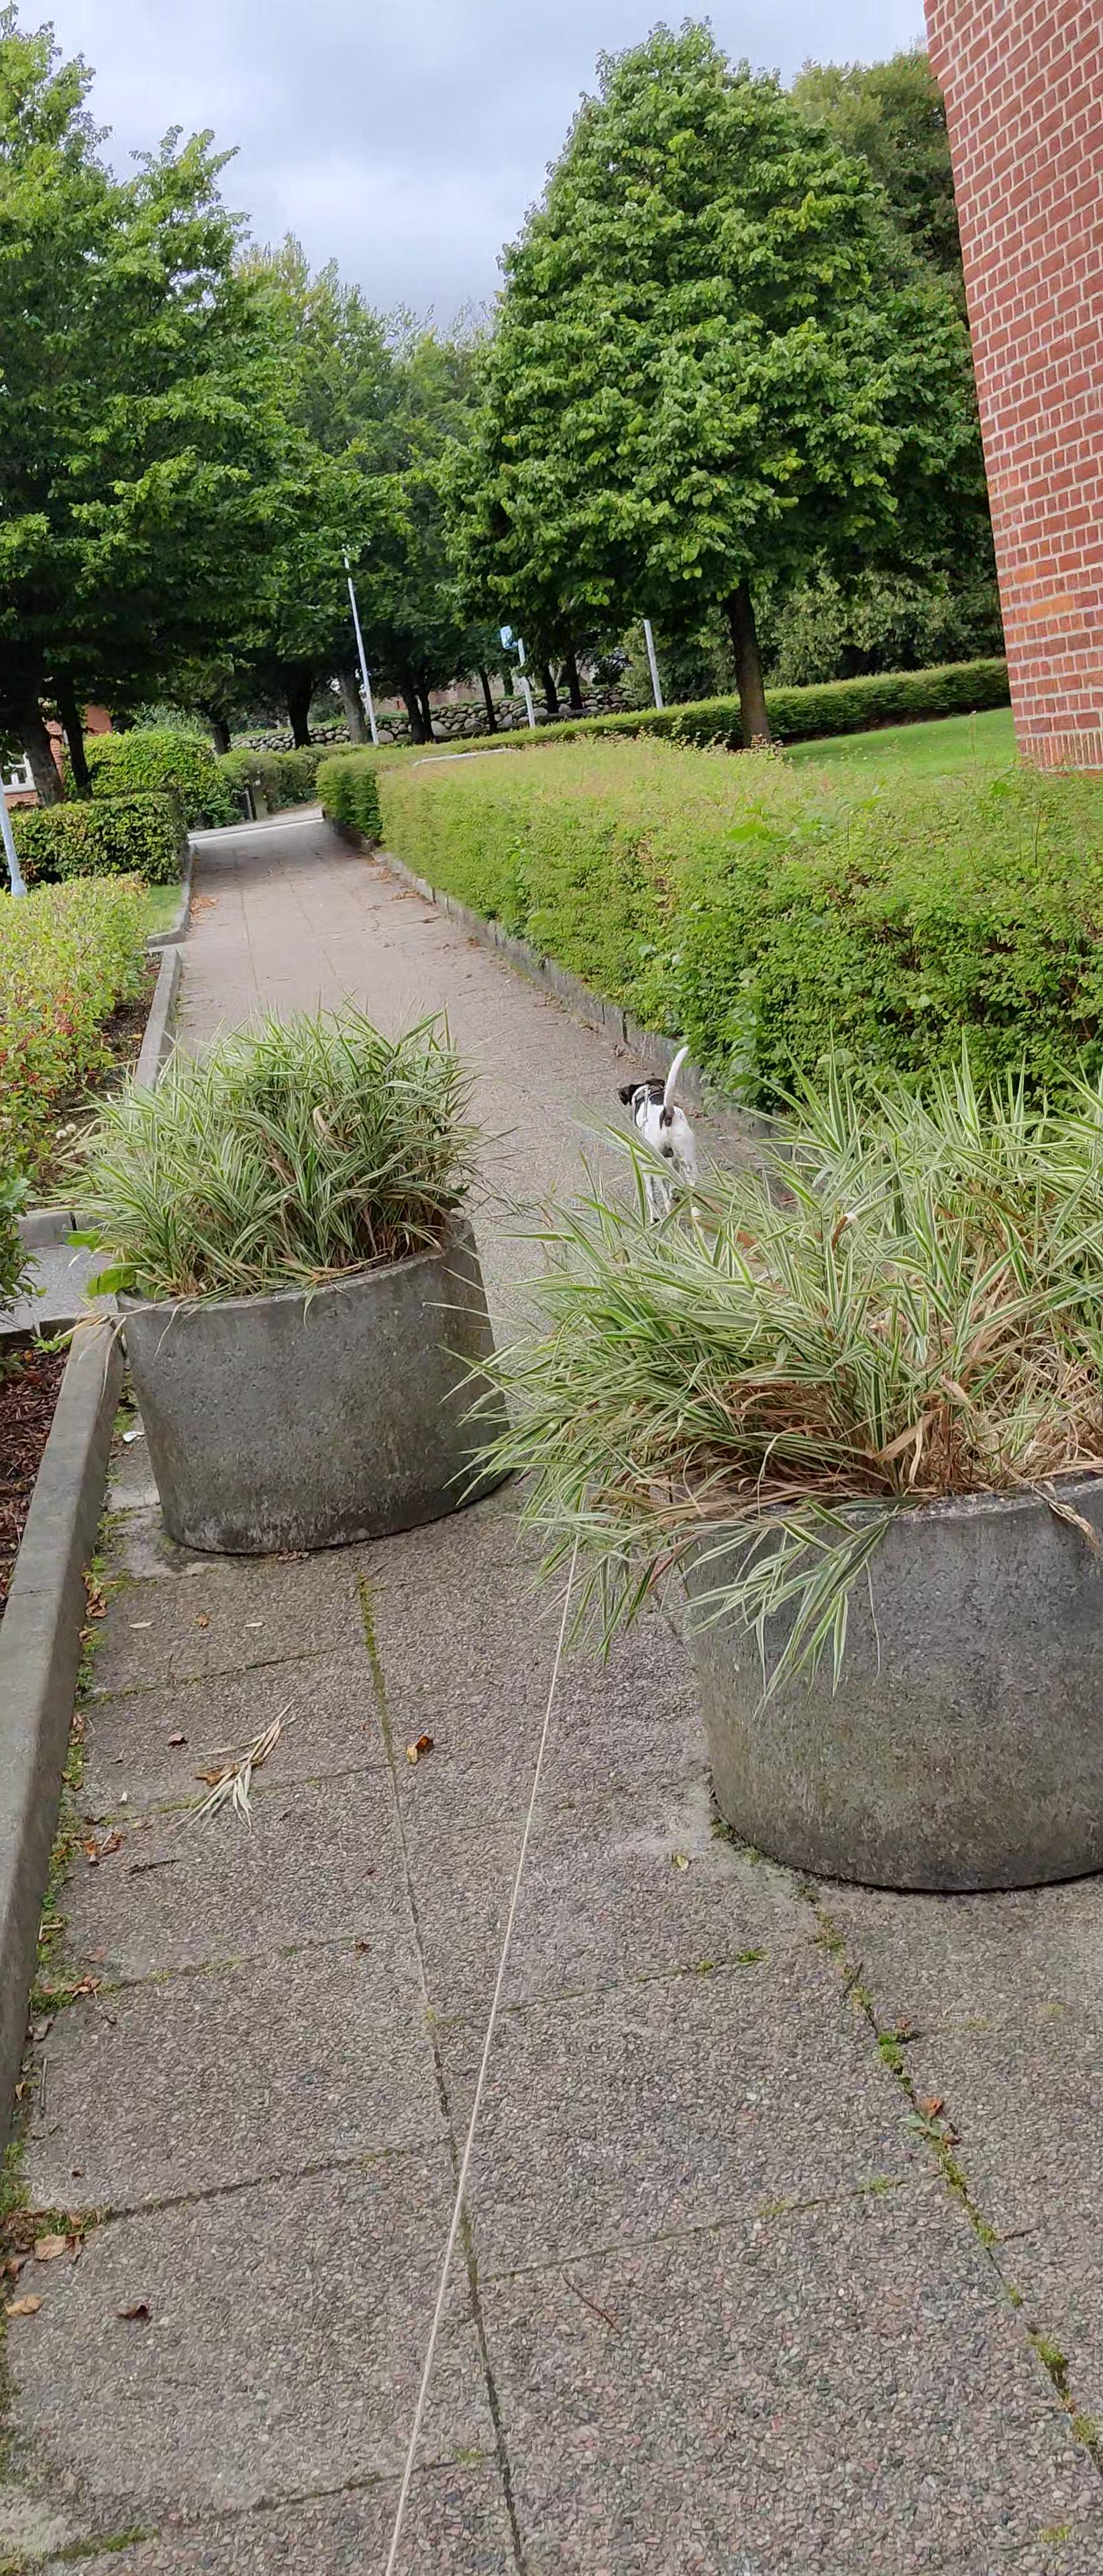Dog: (613, 1040, 702, 1240)
